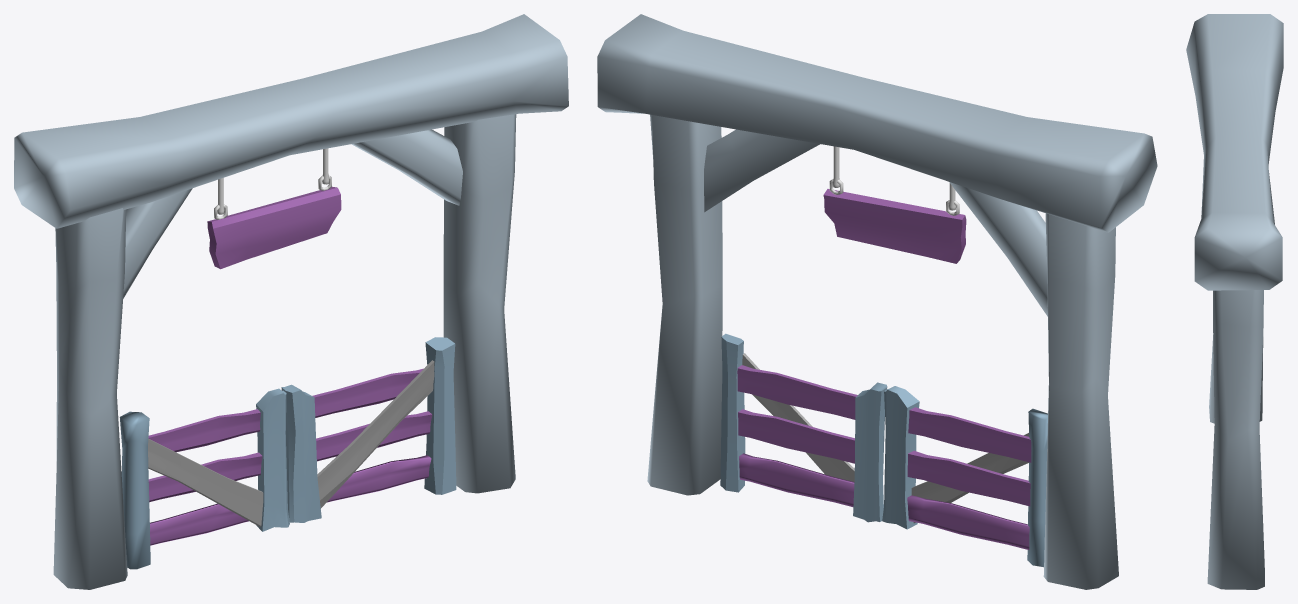
File: Gate.fbx
The picture shows the model from 3 angles, left to right: view 1: azimuth 30°, elevation 25°; view 2: azimuth 150°, elevation 25°; view 3: azimuth 270°, elevation 25°; orthographic projection. The views are drawn at different scales.
Visible parts, largest first — view 1: Gate, R_Door, L_Door, Board; view 2: Gate, R_Door, L_Door, Board; view 3: Gate.
Part boxes in pixels (<box>): Gate: <box>14,14,568,589</box>; R_Door: <box>281,337,456,522</box>; L_Door: <box>119,388,289,569</box>; Board: <box>207,148,341,269</box>; Gate: <box>597,14,1157,589</box>; R_Door: <box>720,333,887,522</box>; L_Door: <box>882,386,1047,567</box>; Board: <box>823,146,966,263</box>; Gate: <box>1186,14,1283,589</box>.
Size of the model in its own units: 6.55 by 5.46 by 1.27.
